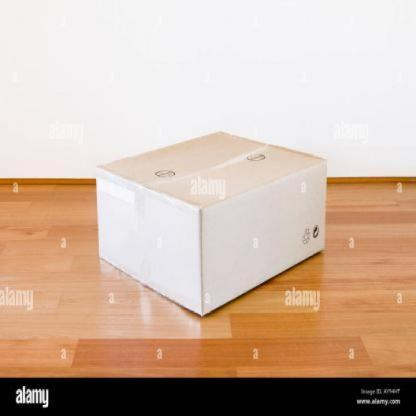-: (88, 120, 348, 328)
